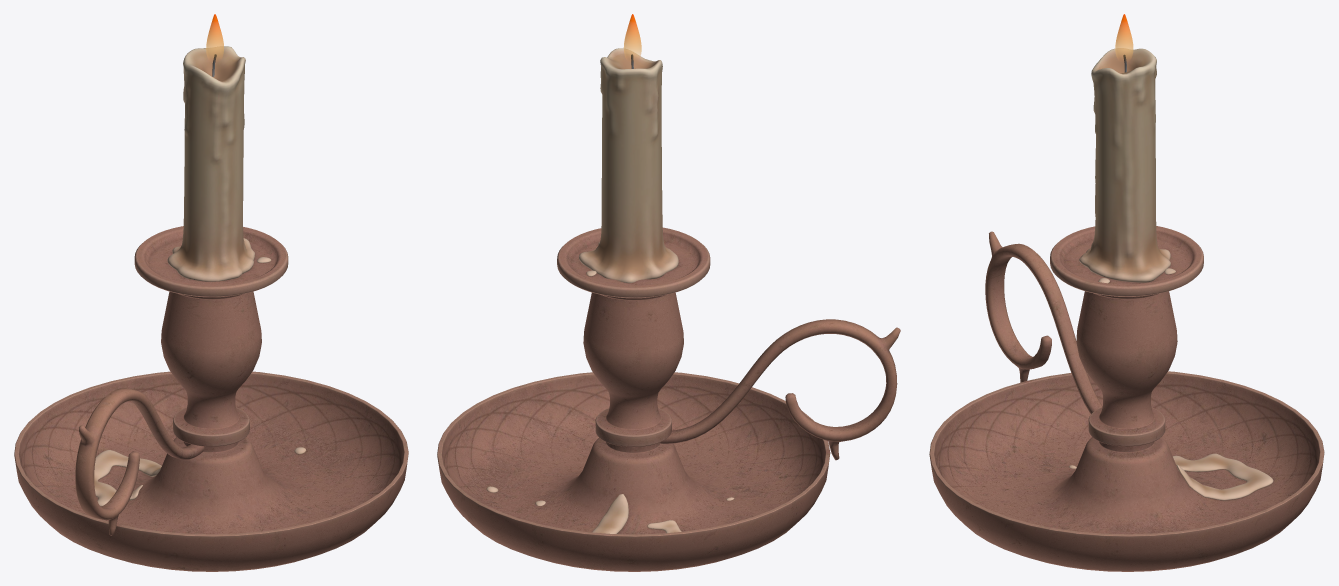
The model's file is candle.glb.
The picture shows the model from 3 angles, left to right: view 1: azimuth 30°, elevation 25°; view 2: azimuth 150°, elevation 25°; view 3: azimuth 270°, elevation 25°; orthographic projection.
Visible parts, largest first — view 1: Candlestick_0, Candle_1, Wax_3, Flame_4; view 2: Candlestick_0, Candle_1, Wax_3, Flame_4; view 3: Candlestick_0, Candle_1, Wax_3, Flame_4.
Part boxes in pixels (left/top/right/bottom): Candlestick_0: left=14, top=226, right=408, bottom=571; Candle_1: left=167, top=46, right=254, bottom=281; Wax_3: left=94, top=257, right=306, bottom=506; Flame_4: left=206, top=14, right=223, bottom=60; Candlestick_0: left=437, top=227, right=900, bottom=571; Candle_1: left=579, top=48, right=678, bottom=283; Wax_3: left=486, top=242, right=734, bottom=533; Flame_4: left=623, top=14, right=641, bottom=59; Candlestick_0: left=929, top=226, right=1324, bottom=571; Candle_1: left=1079, top=48, right=1170, bottom=282; Wax_3: left=1069, top=268, right=1273, bottom=500; Flame_4: left=1115, top=14, right=1133, bottom=60.
Bounding box in the file's own units: 0.1512 × 0.1924 × 0.1393.
2 materials, 2 textured.
